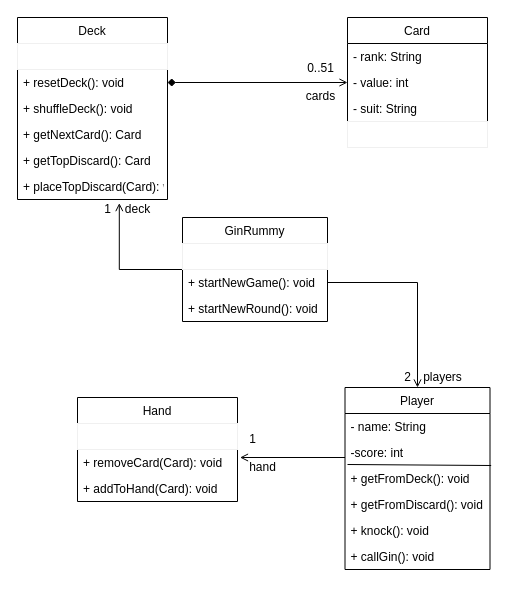
Image size: 510x590. Some labels were removed from this diagram. Here are the shapes that lost their labels. From the top down, the centre of each, then its label:
At point 92,56: "- topDiscardPile: Card".
At point 157,436: "- deadwood: int".
